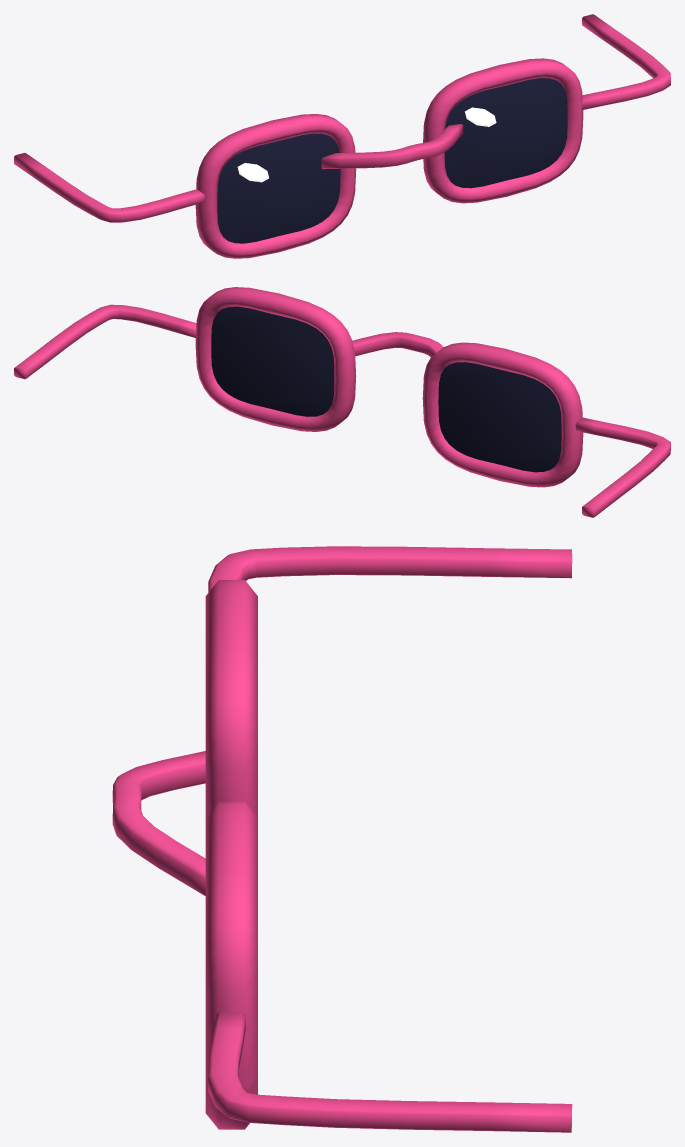
Rendered from sunglasses-panda.glb.
3 renders of one model, top to bottom at view 1: azimuth 30°, elevation 25°; view 2: azimuth 150°, elevation 25°; view 3: azimuth 270°, elevation 25°, orthographic. The views are drawn at different scales.
Visible parts, largest first — view 1: lens.001, lens, rim.001, rim, temple.001, temple, bridge, shine, shine.001; view 2: lens.001, lens, rim, rim.001, temple, temple.001, bridge; view 3: rim, temple, rim.001, temple.001, bridge.
Boxes of the visible parts, x1=… form: lens.001: x1=217, y1=133, x2=340, y2=243; lens: x1=444, y1=78, x2=567, y2=188; rim.001: x1=195, y1=114, x2=356, y2=258; rim: x1=423, y1=58, x2=583, y2=203; temple.001: x1=14, y1=153, x2=204, y2=222; temple: x1=582, y1=14, x2=670, y2=109; bridge: x1=321, y1=124, x2=463, y2=169; shine: x1=465, y1=107, x2=496, y2=126; shine.001: x1=237, y1=163, x2=268, y2=182; lens.001: x1=438, y1=362, x2=561, y2=472; lens: x1=211, y1=306, x2=334, y2=416; rim: x1=195, y1=287, x2=356, y2=431; rim.001: x1=422, y1=342, x2=583, y2=487; temple: x1=14, y1=304, x2=196, y2=379; temple.001: x1=575, y1=417, x2=670, y2=517; bridge: x1=352, y1=332, x2=443, y2=357; rim: x1=205, y1=802, x2=257, y2=1129; temple: x1=208, y1=1012, x2=572, y2=1132; rim.001: x1=205, y1=580, x2=257, y2=817; temple.001: x1=208, y1=546, x2=572, y2=592; bridge: x1=112, y1=751, x2=205, y2=895.
Size of the model in its own units: 1.33 by 0.2784 by 0.4552.
